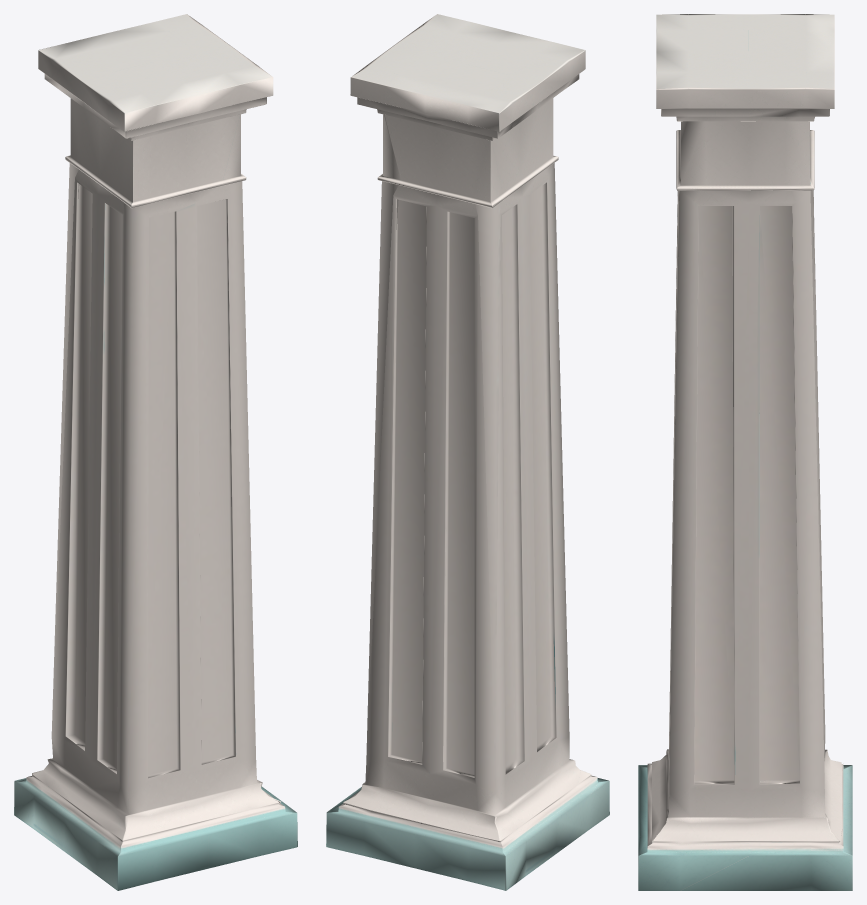
The model's file is KIT_pillar.glb.
3 views of the same model, side by side, from view 1: azimuth 30°, elevation 25°; view 2: azimuth 150°, elevation 25°; view 3: azimuth 270°, elevation 25° (orthographic). The views are drawn at different scales.
Bounding box in the file's own units: 0.2334 × 0.9512 × 0.2329.
Materials: 1 (1 with a texture image).
